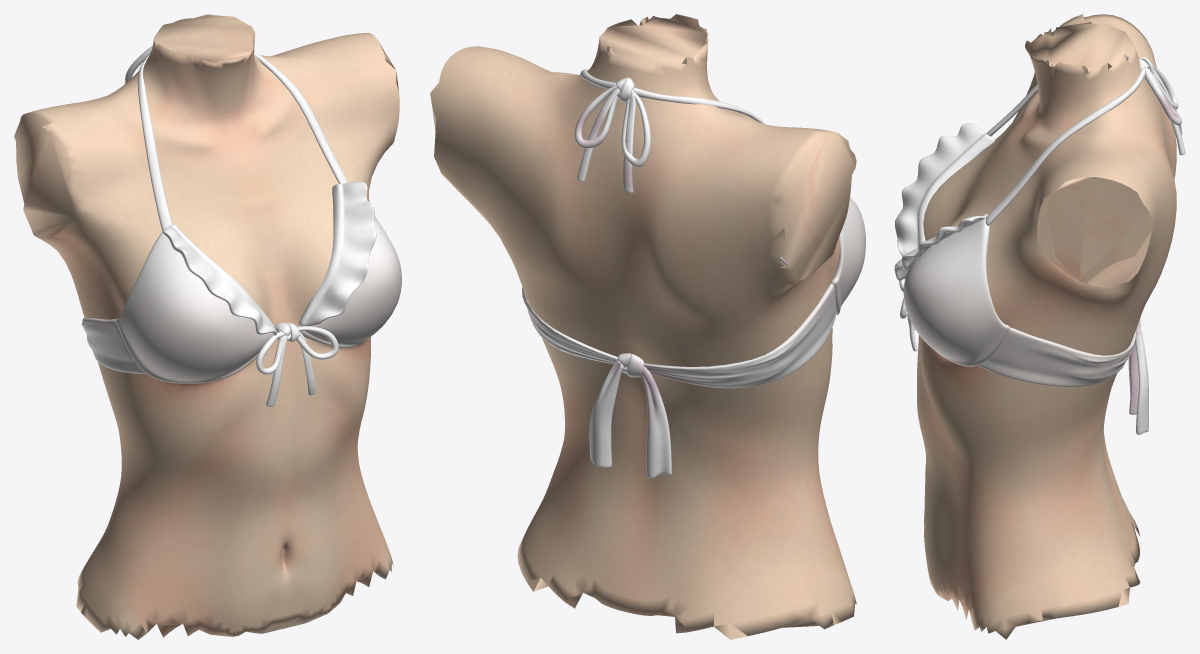
Rendered from female_body.glb.
The picture shows the model from 3 angles, left to right: view 1: azimuth 30°, elevation 25°; view 2: azimuth 150°, elevation 25°; view 3: azimuth 270°, elevation 25°; orthographic projection. The views are drawn at different scales.
Parts seen in each view (by area): view 1: object_Material #155_0, object_Material #167_0; view 2: object_Material #155_0, object_Material #167_0; view 3: object_Material #155_0, object_Material #167_0.
Part boxes in pixels (x1,y1,x2,y2): object_Material #155_0: (14,14,399,639); object_Material #167_0: (81,45,401,406); object_Material #155_0: (430,14,856,639); object_Material #167_0: (522,69,865,478); object_Material #155_0: (917,14,1176,639); object_Material #167_0: (894,55,1185,434).
Bounding box in the file's own units: 0.0381 × 0.0562 × 0.0279.
Materials: 2 (2 with a texture image).
